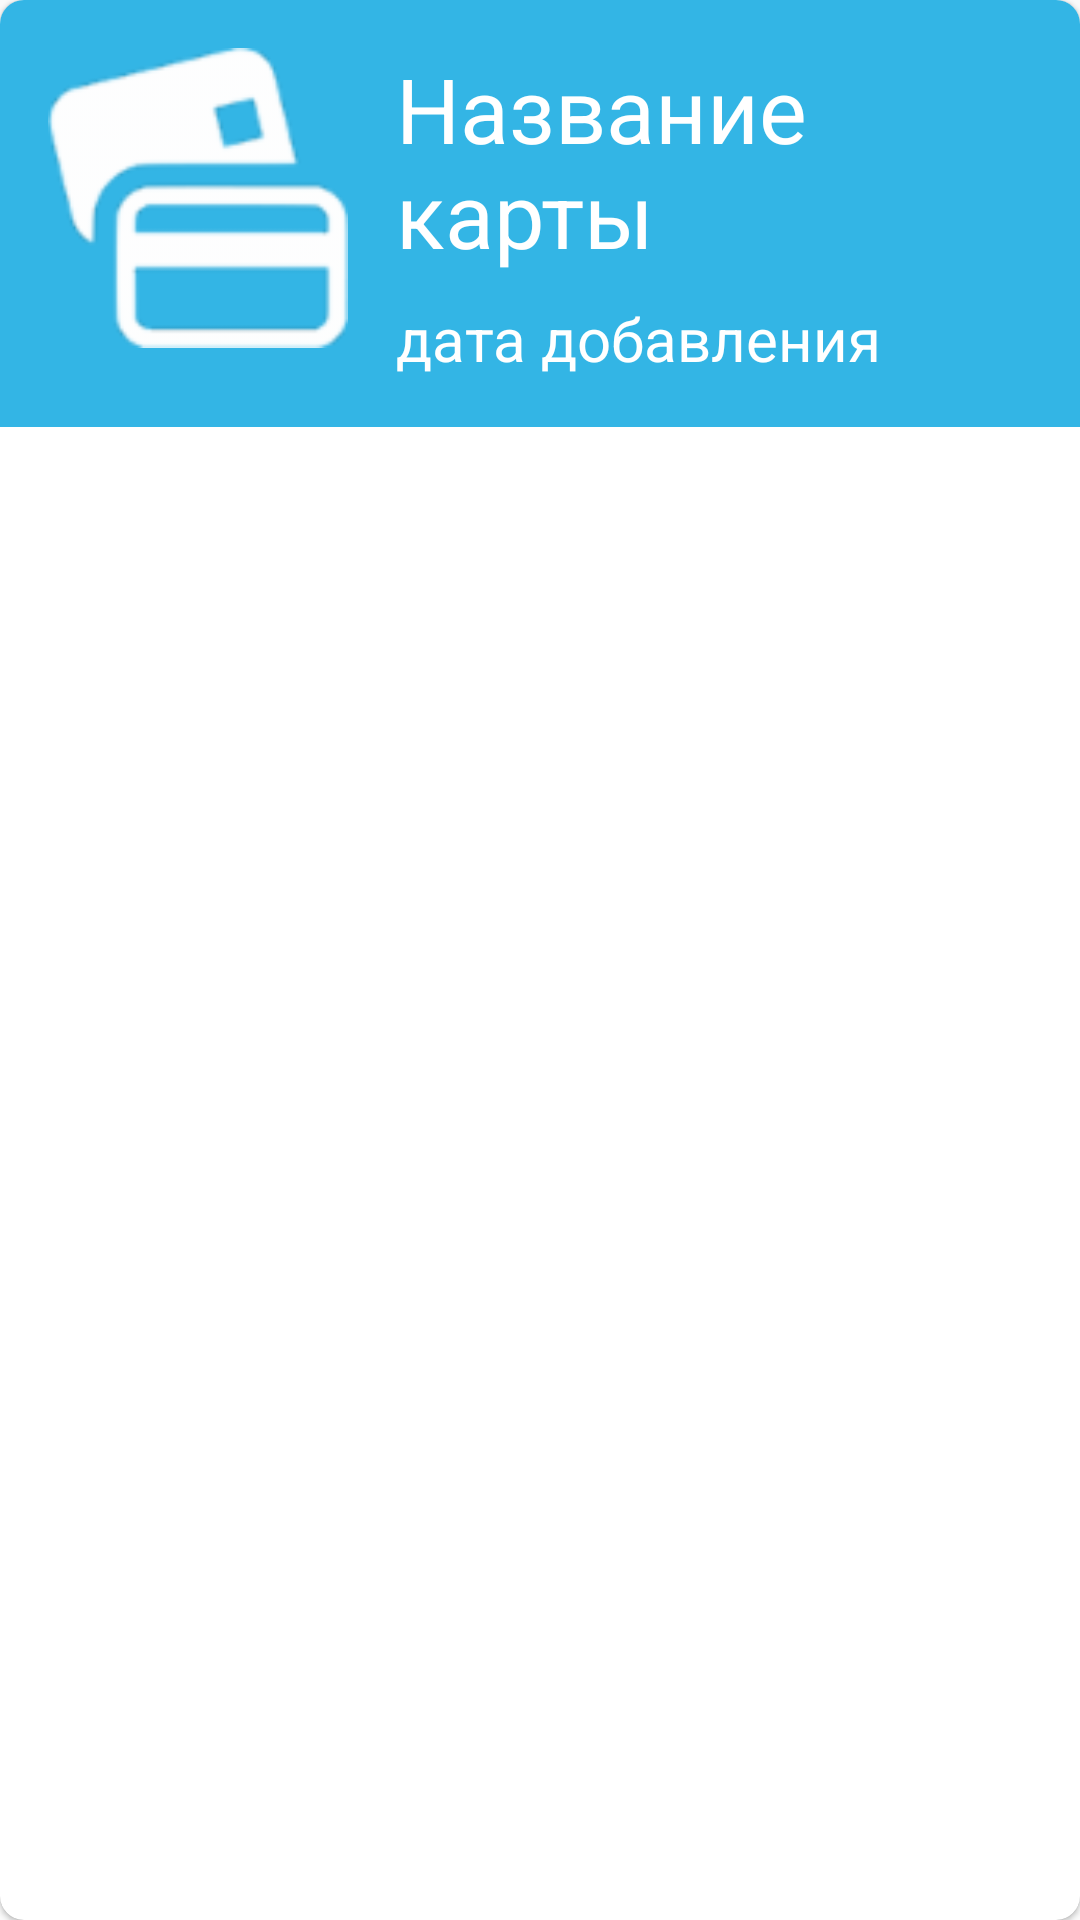

Screen size 1080x1920. Icon name, then its center in pixels as [x,y]:
card: [198,198]
